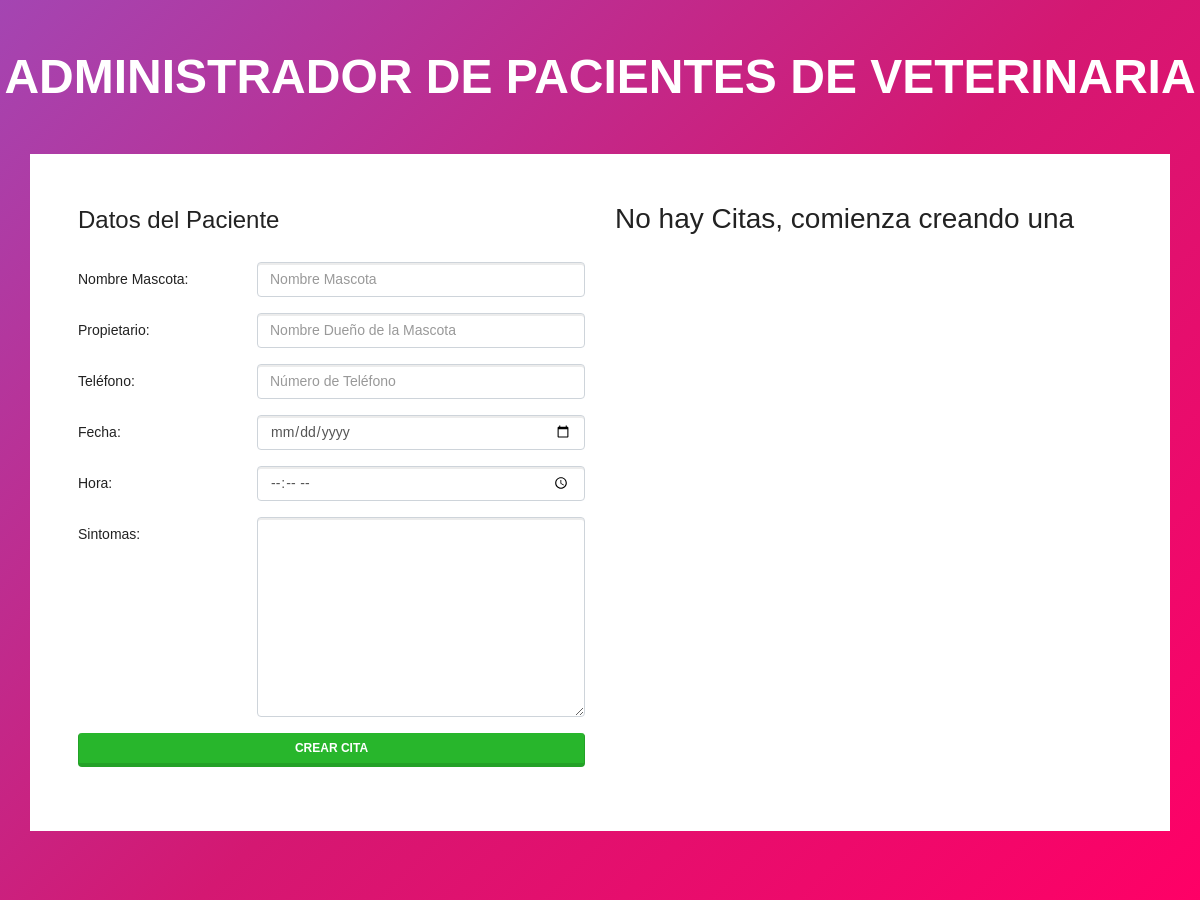
Test: Llena los campos para una nueva cita y la edita › campos nueva cita
Step 1. Type "Hook" into the field with test id "mascota-input" → (421, 280), box [257,262,585,297]
Step 2. Type "Juan" into the field with test id "propietario-input" → (421, 331), box [257,313,585,348]
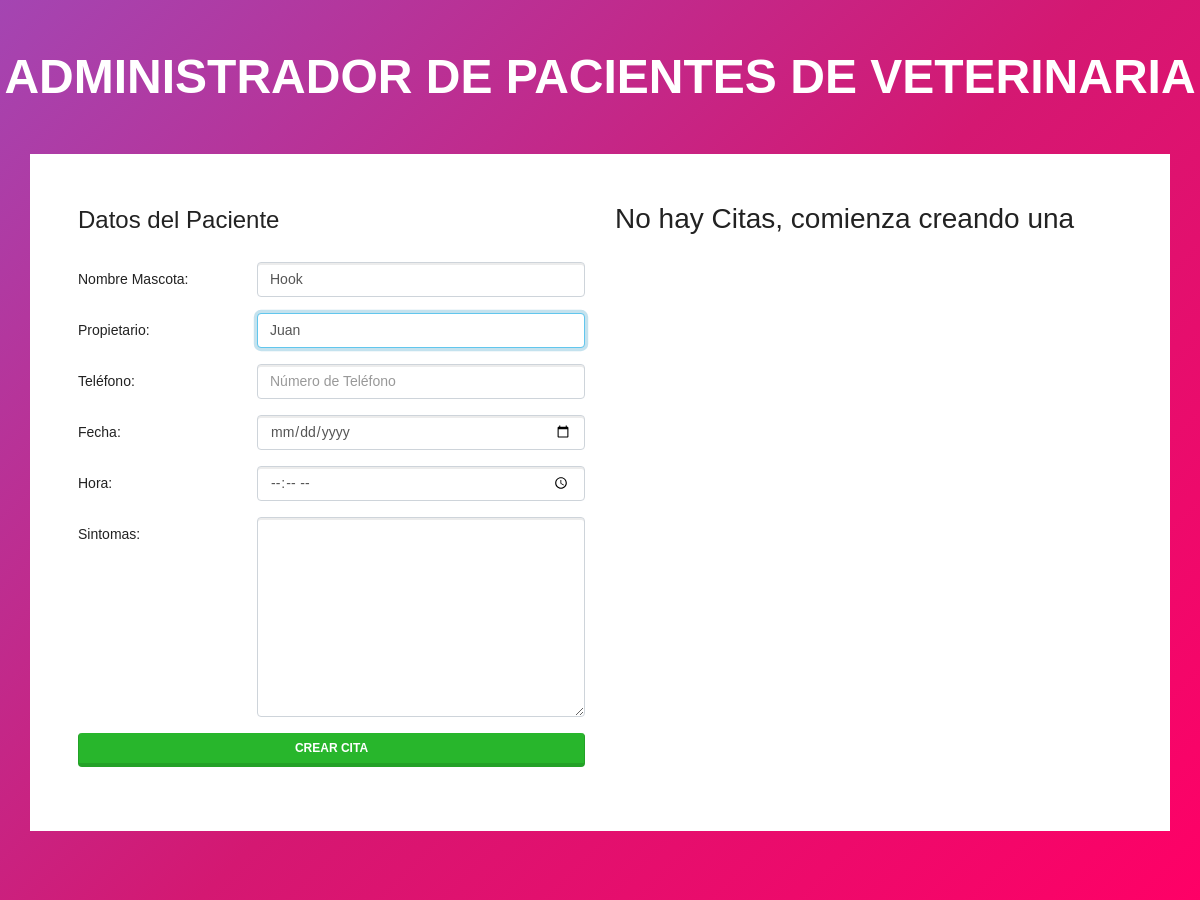
Step 3. Type "13981398389" into the field with test id "telefono-input" → (421, 382), box [257,364,585,399]
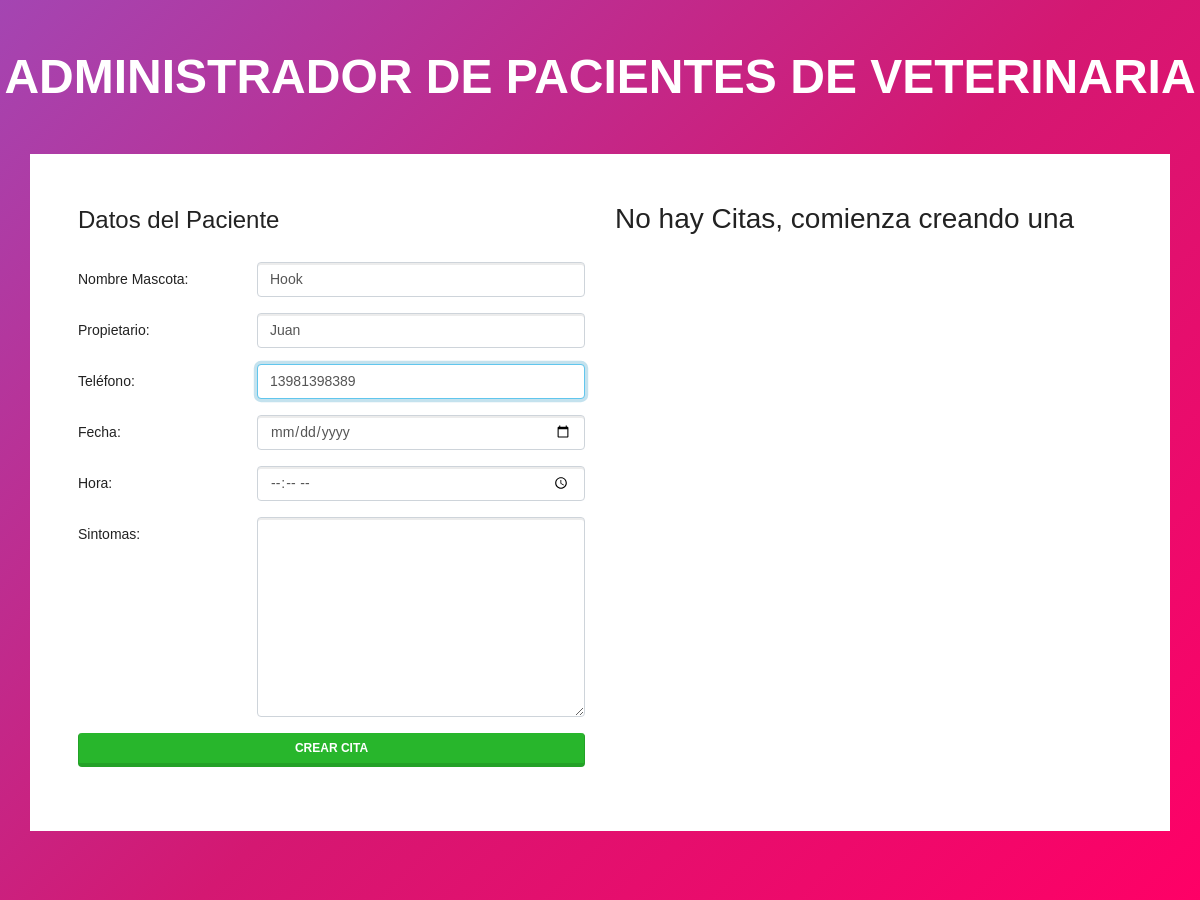
Step 4. Type "2020-12-03" into the date field with test id "fecha-input" → (421, 433), box [257,415,585,450]
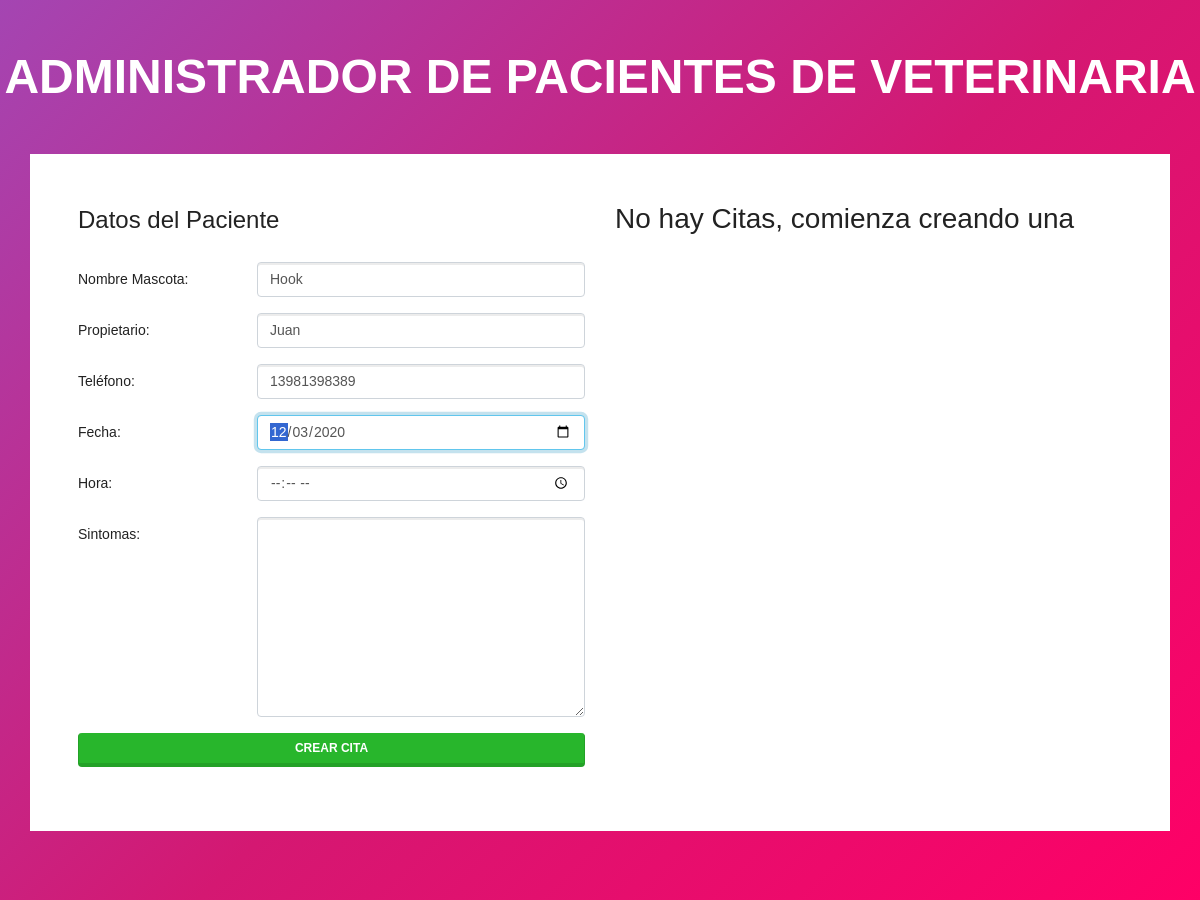
Step 5. Type "20:30" into the time field with test id "hora-input" → (421, 484), box [257,466,585,501]
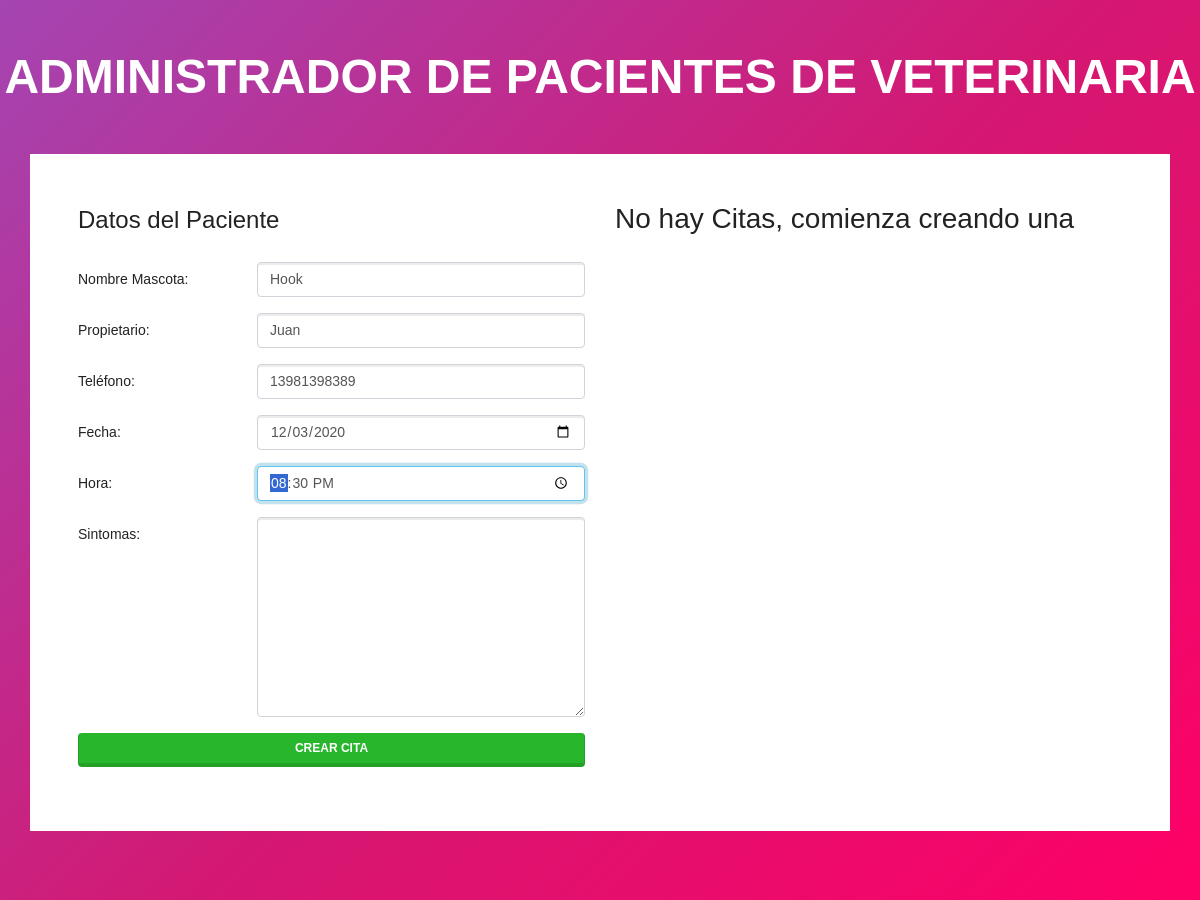
Step 6. Type "El gato solo come y duerme" into the text box with test id "sintomas-textarea" → (421, 617), box [257,517,585,717]
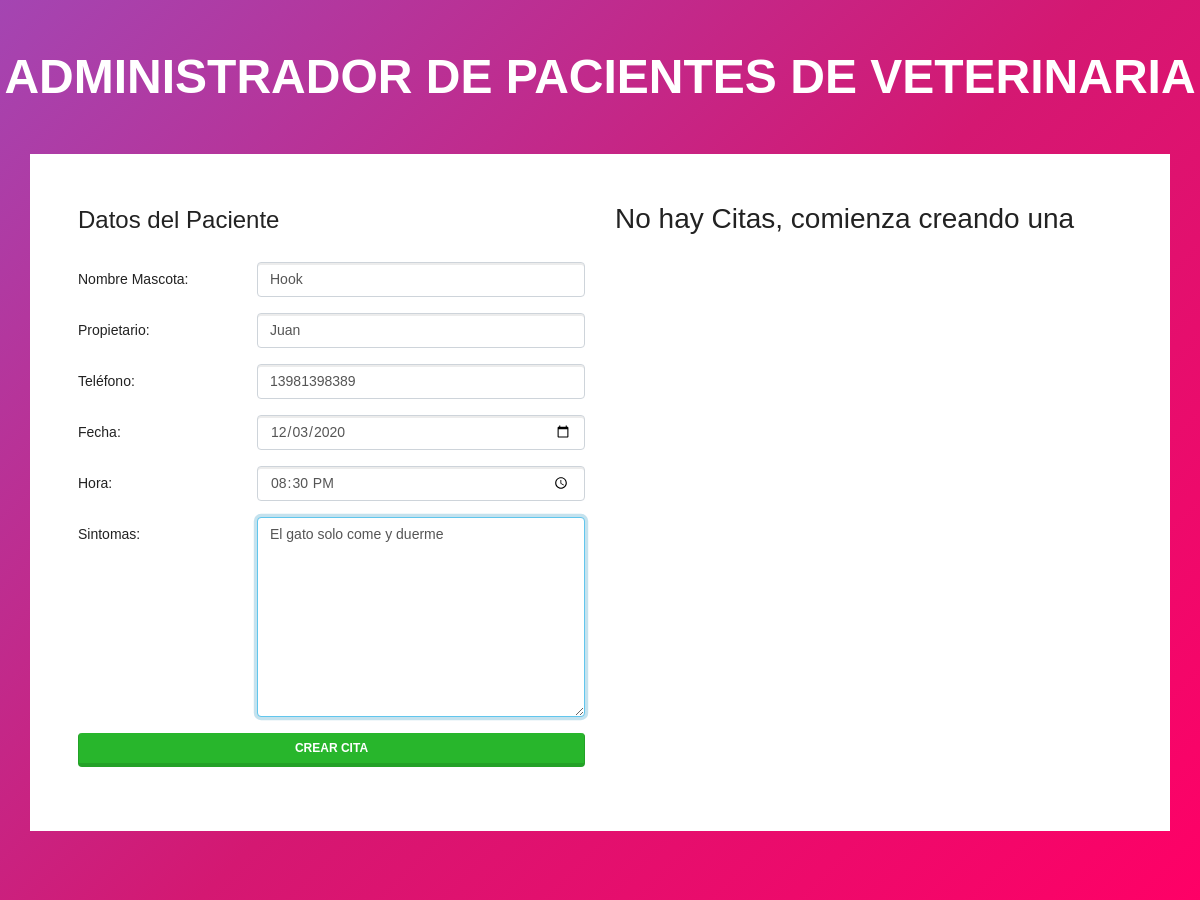
Step 7. Click the button with test id "submit-cita" → (332, 750), box [78,733,585,767]
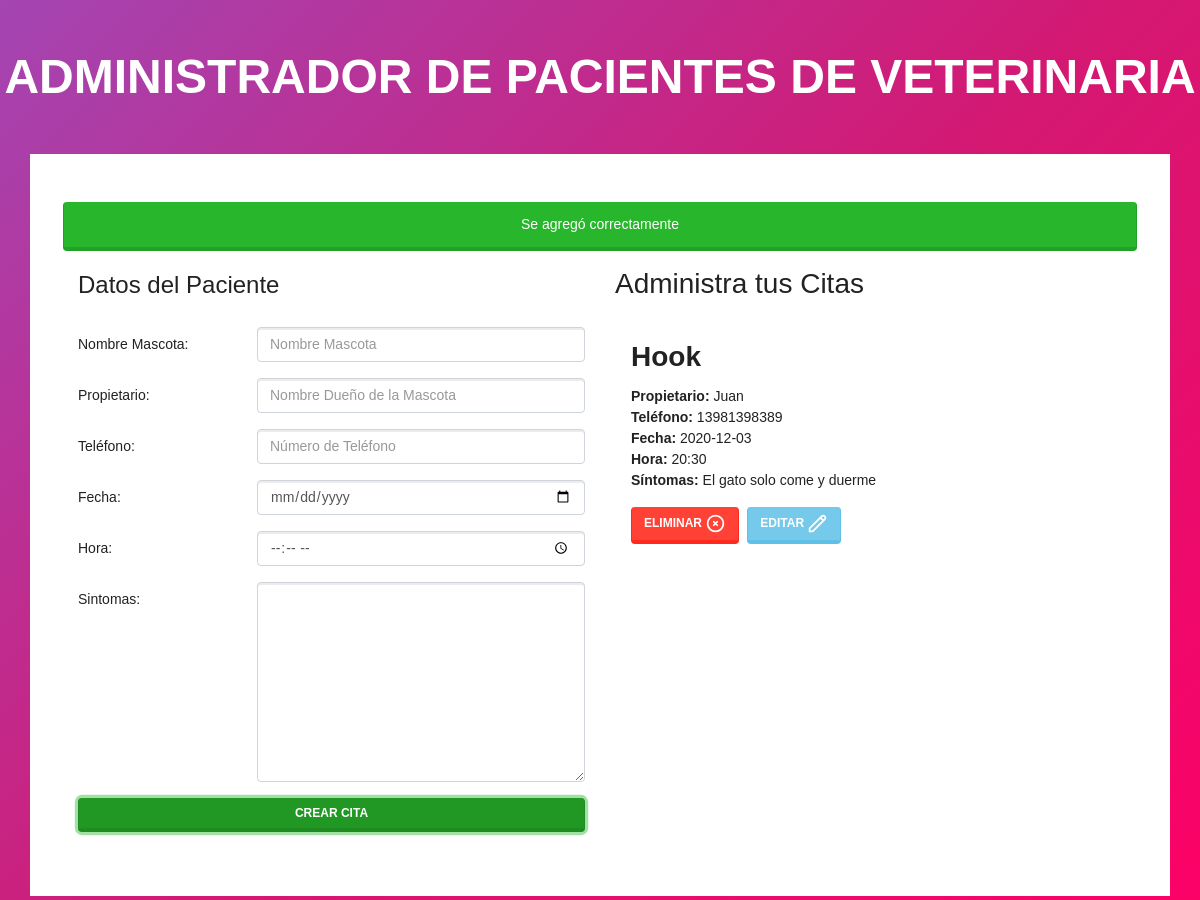
Check: the heading with test id "citas-heading" reads "Administra tus Citas", box [615,268,864,299]
Check: the text with test id "alerta" reads "Se agregó correctamente", box [63,202,1137,251]
